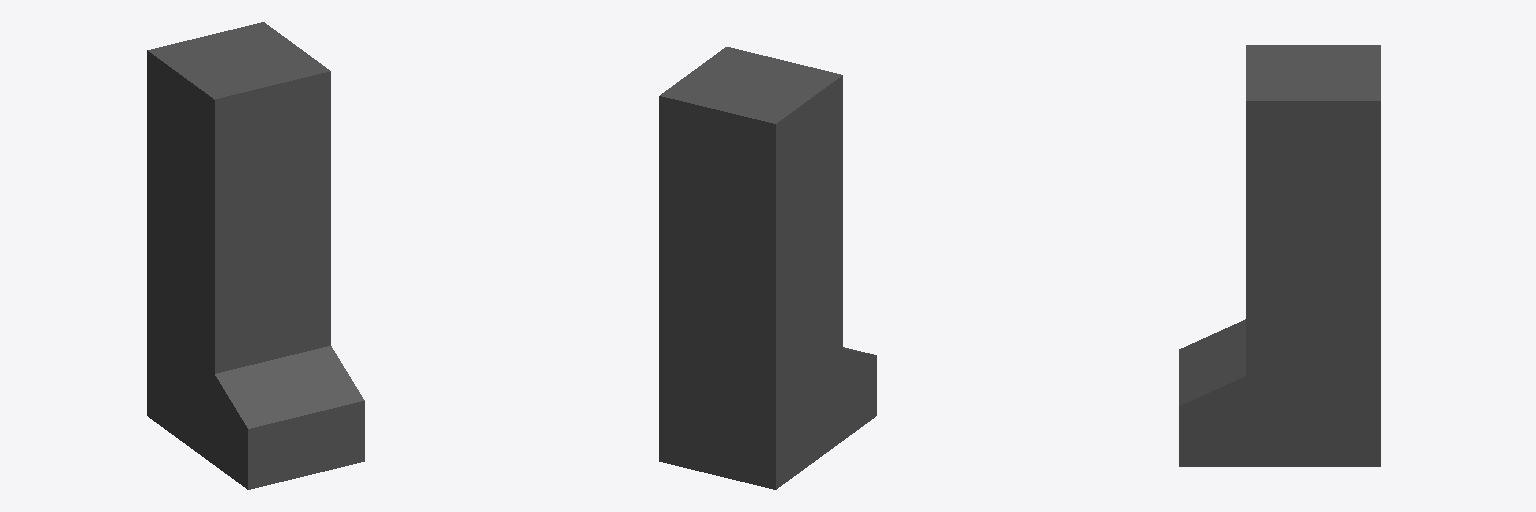
Rendered from playerRLeg.obj.
The picture shows the model from 3 angles: view 1: azimuth 30°, elevation 25°; view 2: azimuth 150°, elevation 25°; view 3: azimuth 270°, elevation 25°; orthographic projection.
Parts seen in each view (by area): view 1: LegRight1; view 2: LegRight1; view 3: LegRight1.
Part boxes in pixels (x1,y1,x2,y2): LegRight1: (147, 22, 364, 489); LegRight1: (659, 47, 876, 489); LegRight1: (1179, 45, 1380, 466).
Bounding box in the file's own units: 2 × 6 × 3.